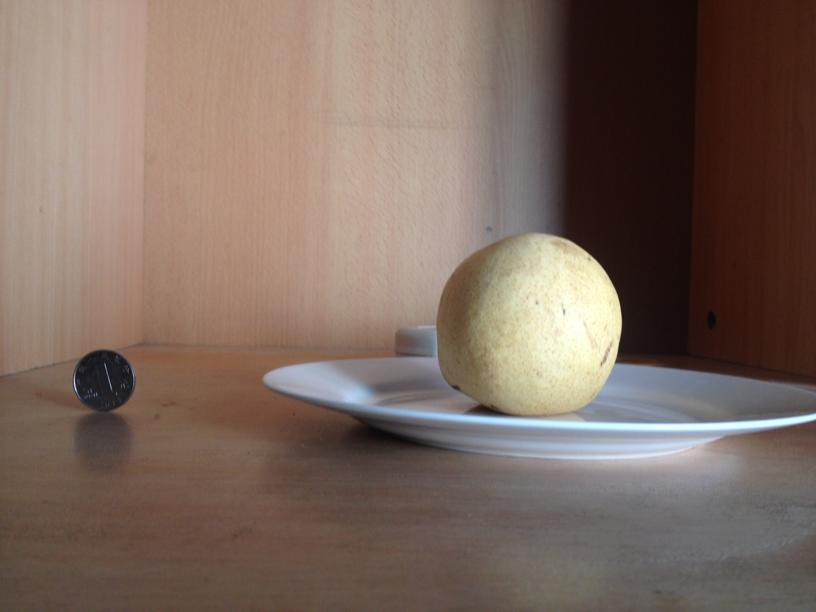coin: (70, 349, 135, 413)
pear: (433, 234, 623, 414)
